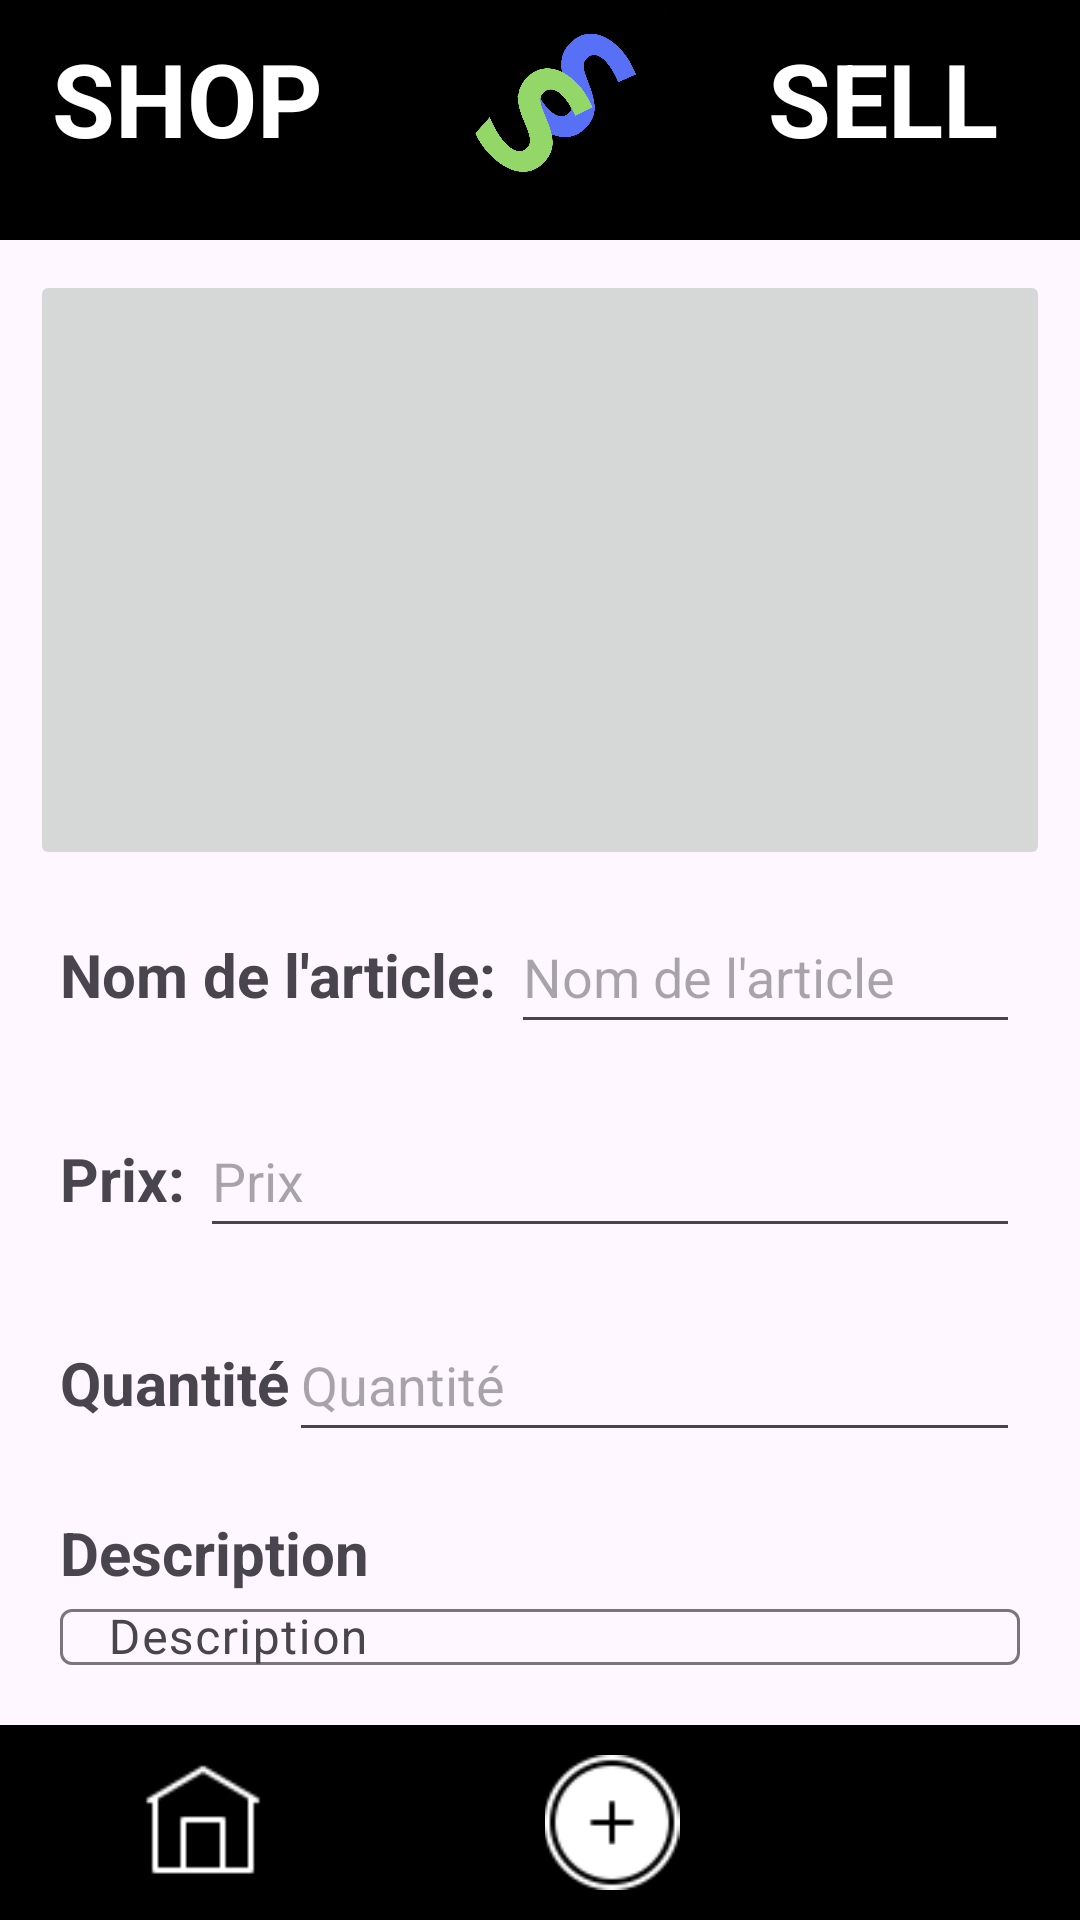

Where to tap for icons on this 1080 x 1920 app screen, as (x=x, y=y):
Bouton pour ajouter un produit: (x=612, y=1822)
